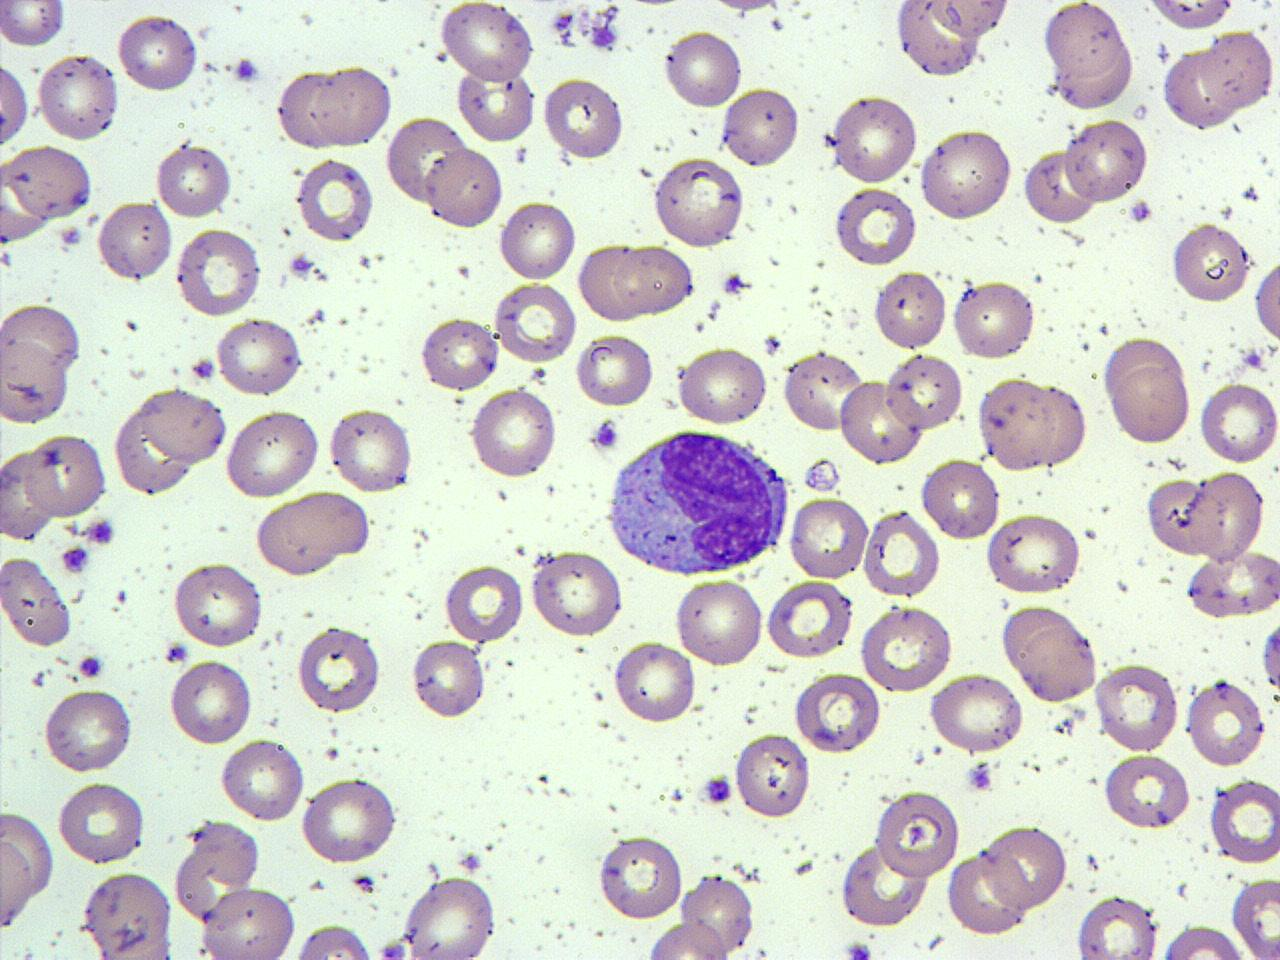Platelets: (584, 6, 622, 52), (82, 514, 118, 547), (589, 416, 621, 452), (702, 774, 736, 806), (60, 544, 91, 576), (964, 760, 992, 794), (590, 26, 620, 53), (75, 653, 106, 679), (549, 9, 577, 36), (1126, 198, 1154, 224), (234, 56, 260, 83), (191, 355, 218, 380), (842, 938, 872, 960), (164, 640, 191, 664), (379, 938, 406, 960), (287, 254, 314, 276), (722, 271, 747, 294), (57, 224, 83, 246), (460, 850, 483, 874), (352, 872, 378, 893), (1239, 347, 1265, 368), (556, 24, 577, 48), (761, 333, 782, 355), (599, 3, 622, 20), (820, 132, 837, 149)
RBC: (109, 385, 230, 497), (975, 375, 1089, 471), (253, 488, 372, 578), (222, 406, 322, 501), (299, 774, 401, 867), (919, 126, 1015, 222), (528, 548, 626, 640), (468, 384, 560, 481), (857, 604, 956, 694), (672, 575, 766, 669), (652, 156, 747, 249), (80, 868, 177, 958), (401, 872, 498, 960), (926, 670, 1025, 756), (830, 93, 920, 186), (872, 788, 961, 882), (1092, 660, 1180, 755), (983, 512, 1083, 595), (56, 777, 147, 868), (43, 684, 135, 774), (174, 226, 264, 318), (326, 404, 415, 497), (171, 562, 266, 649), (594, 833, 686, 922), (839, 842, 931, 929), (294, 625, 381, 717), (436, 2, 537, 81), (23, 430, 109, 522), (836, 376, 922, 467), (213, 314, 305, 399), (674, 344, 768, 427), (1063, 118, 1151, 206), (1184, 676, 1266, 770), (982, 822, 1069, 910), (611, 638, 698, 726), (786, 492, 871, 582), (36, 51, 119, 143), (862, 506, 942, 601), (492, 278, 578, 366), (167, 658, 252, 747), (219, 736, 306, 822), (950, 277, 1038, 362), (540, 73, 624, 162), (198, 886, 299, 960), (946, 848, 1029, 938), (1108, 362, 1194, 448), (794, 670, 882, 754), (384, 114, 466, 204), (920, 454, 1002, 544), (1101, 752, 1193, 832), (891, 1, 986, 78), (765, 578, 854, 660), (496, 196, 578, 285), (733, 730, 812, 822), (0, 554, 74, 652), (779, 350, 864, 435), (114, 10, 200, 94), (830, 185, 918, 267), (1191, 468, 1267, 562), (1168, 221, 1252, 306), (312, 63, 394, 150), (295, 157, 376, 245), (662, 26, 744, 112), (424, 144, 505, 231), (7, 141, 94, 222), (95, 196, 175, 284), (1198, 380, 1278, 467), (442, 562, 526, 644), (454, 63, 538, 145), (720, 84, 800, 170), (1184, 549, 1280, 620), (0, 335, 72, 428), (573, 329, 655, 410), (1208, 776, 1280, 868), (1100, 335, 1188, 410), (2, 299, 83, 380), (418, 314, 500, 394), (1199, 27, 1275, 113), (154, 140, 233, 222), (872, 267, 948, 352), (410, 637, 486, 721), (681, 871, 756, 956), (1018, 626, 1099, 704), (885, 352, 963, 433), (1042, 1, 1124, 78), (1143, 476, 1219, 558), (1162, 49, 1236, 132), (613, 242, 694, 317), (276, 68, 348, 151), (1021, 146, 1097, 224), (1074, 892, 1160, 960), (574, 240, 648, 319), (1, 450, 56, 542), (1228, 874, 1280, 960), (0, 813, 37, 931), (920, 0, 1014, 40), (644, 919, 730, 959), (0, 0, 67, 51), (1158, 924, 1250, 960), (1143, 0, 1237, 34), (292, 922, 376, 960), (0, 54, 31, 151), (1252, 253, 1280, 348), (1259, 612, 1280, 703)
WBC: (602, 424, 793, 580), (114, 384, 230, 499), (891, 2, 1009, 78)
